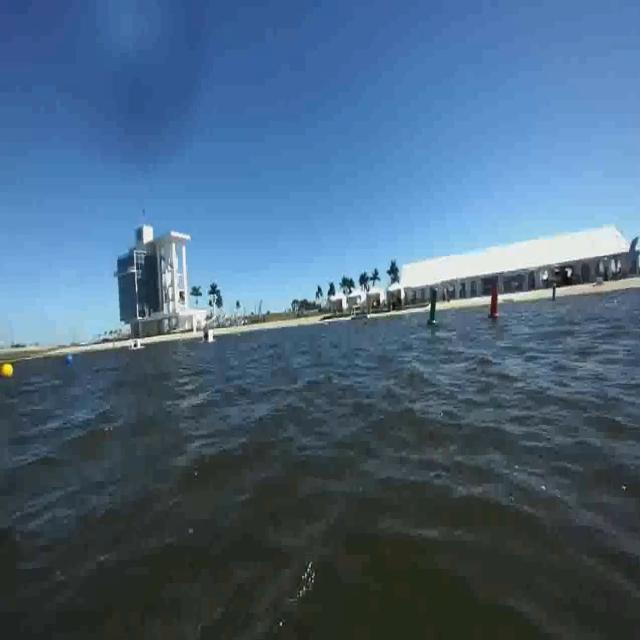green-column-buoy: (426, 286, 441, 328)
red-column-buoy: (487, 276, 504, 322)
yellow-buoy: (1, 360, 14, 379)
